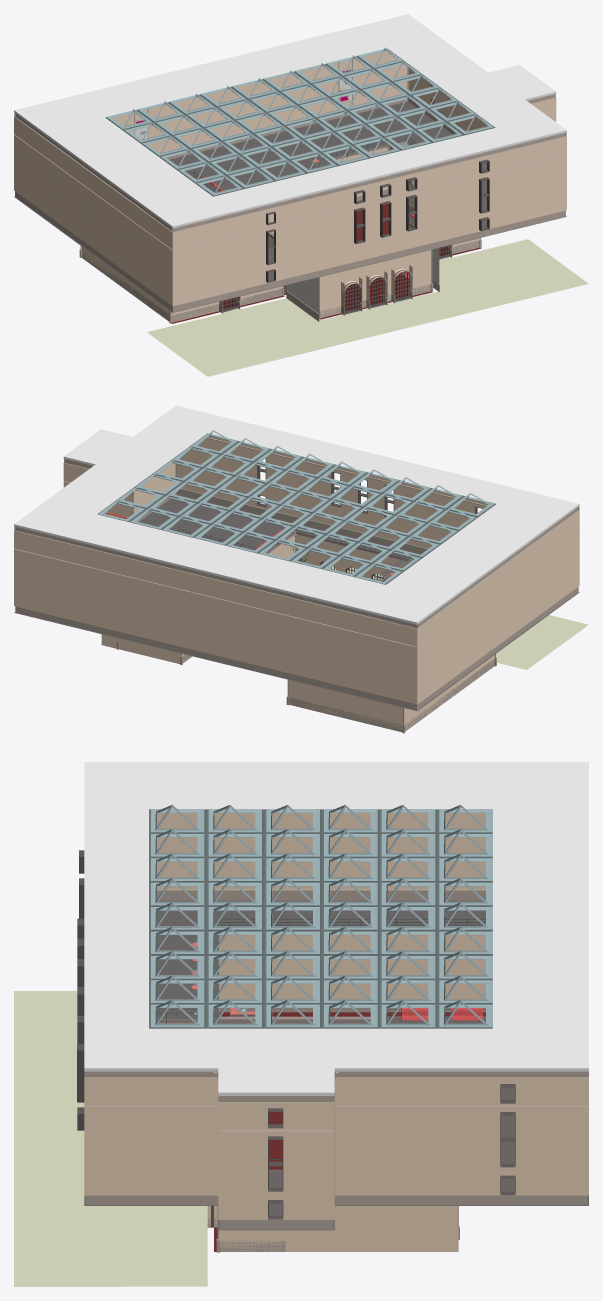
The model's file is Room_Expo.glb.
The picture shows the model from 3 angles, top to bottom: view 1: azimuth 30°, elevation 25°; view 2: azimuth 150°, elevation 25°; view 3: azimuth 270°, elevation 25°; orthographic projection. The views are drawn at different scales.
Parts seen in each view (by area): view 1: Murs_level_01, Plafond, Murs_RDC.001, Puit de lumière, HM_sol_level_01, Murs_RDC, Plinthe rdc, Fenetres, HM_Sol_rdc, vitres.001, Rampe_level_01; view 2: Murs_level_01, Plafond, Puit de lumière, Murs_RDC, HM_sol_level_01, Murs_RDC.001, Plinthe rdc, Rampe_level_01, Fenetres; view 3: Plafond, Murs_level_01, Puit de lumière, Murs_RDC.001, Murs_RDC, HM_sol_level_01, Fenetres, Rampe_level_01, Plinthe rdc, Fenetres.001, HM_Sol_rdc, Banc.002.
Boxes of the visible parts, left/top/right/bottom form: Murs_level_01: left=14, top=51, right=566, bottom=312; Plafond: left=14, top=14, right=566, bottom=228; Murs_RDC.001: left=147, top=239, right=588, bottom=376; Puit de lumière: left=105, top=47, right=495, bottom=196; HM_sol_level_01: left=14, top=101, right=566, bottom=312; Murs_RDC: left=81, top=147, right=479, bottom=322; Plinthe rdc: left=82, top=189, right=479, bottom=322; Fenetres: left=266, top=159, right=489, bottom=282; HM_Sol_rdc: left=171, top=204, right=481, bottom=323; vitres.001: left=220, top=245, right=450, bottom=314; Rampe_level_01: left=188, top=137, right=417, bottom=245; Murs_level_01: left=14, top=436, right=579, bottom=710; Plafond: left=14, top=405, right=579, bottom=624; Puit de lumière: left=97, top=430, right=495, bottom=584; Murs_RDC: left=101, top=534, right=494, bottom=731; HM_sol_level_01: left=14, top=494, right=579, bottom=711; Murs_RDC.001: left=324, top=561, right=588, bottom=669; Plinthe rdc: left=179, top=654, right=494, bottom=732; Rampe_level_01: left=176, top=529, right=410, bottom=581; Fenetres: left=257, top=453, right=483, bottom=517; Plafond: left=84, top=762, right=588, bottom=1095; Murs_level_01: left=84, top=812, right=588, bottom=1229; Puit de lumière: left=149, top=805, right=492, bottom=1028; Murs_RDC.001: left=14, top=991, right=211, bottom=1286; Murs_RDC: left=159, top=934, right=485, bottom=1251; HM_sol_level_01: left=84, top=900, right=588, bottom=1230; Fenetres: left=77, top=850, right=84, bottom=1130; Rampe_level_01: left=157, top=918, right=485, bottom=1171; Plinthe rdc: left=207, top=1007, right=485, bottom=1251; Fenetres.001: left=268, top=1084, right=515, bottom=1219; HM_Sol_rdc: left=214, top=1012, right=485, bottom=1251; Banc.002: left=401, top=1008, right=482, bottom=1023.
Bounding box in the file's own units: 53.22 × 17.76 × 38.78.
Materials: 4 (4 with a texture image).
